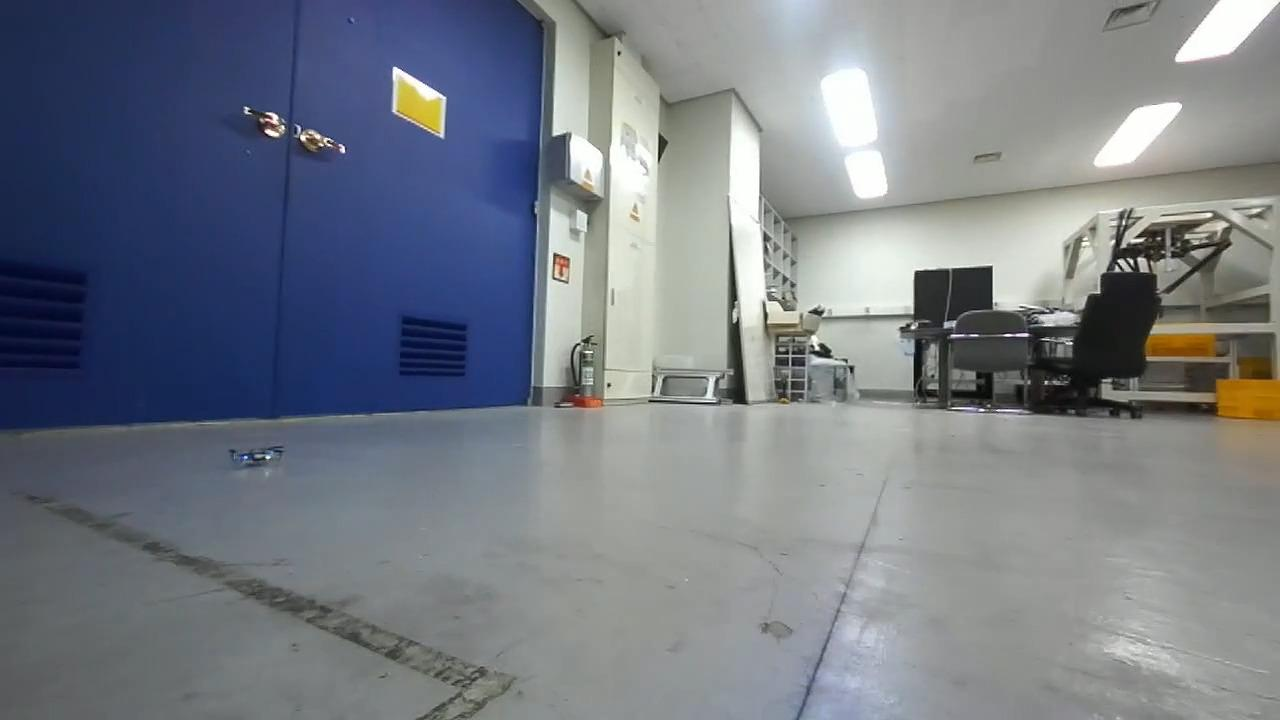crazyflie: (222, 438, 286, 472)
